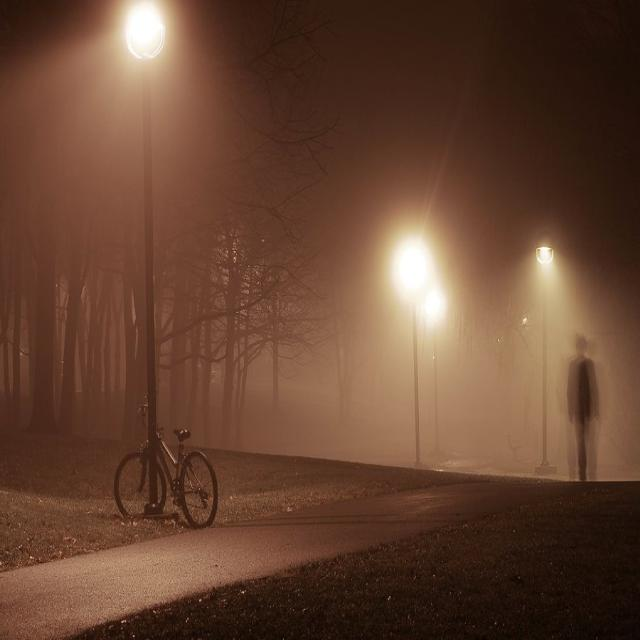Bicycle: (95, 405, 222, 556)
